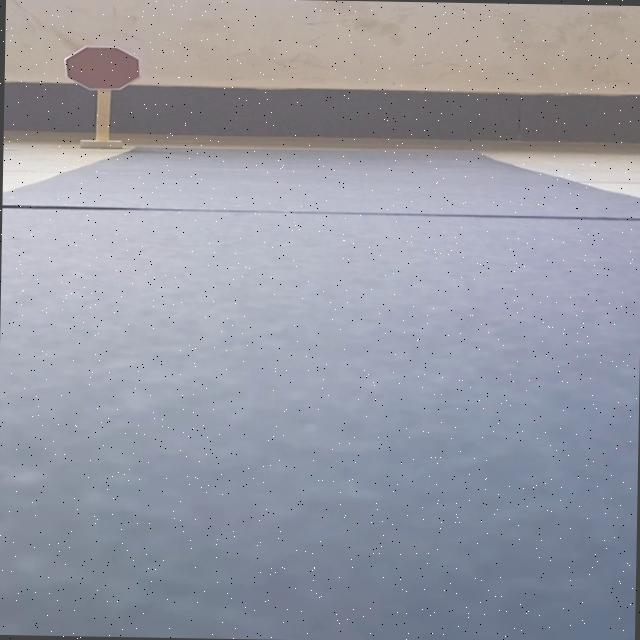Stop: (63, 44, 141, 92)
